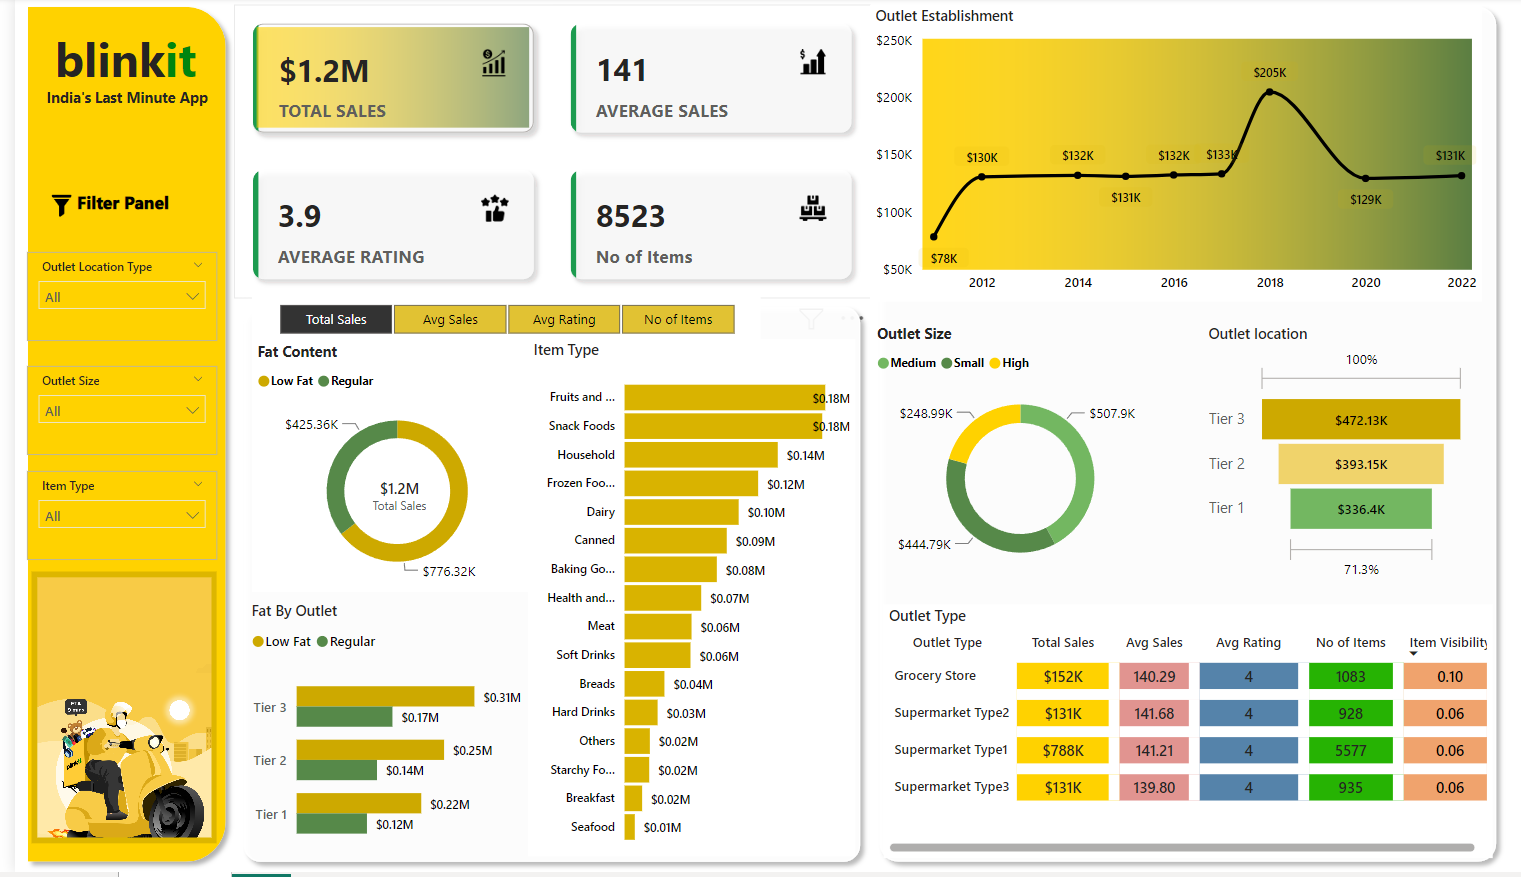

This screenshot's page, from the dashboard's own definition file:
{"tool":"powerbi","page":{"name":"Page 1","canvas":[1400,800],"ordinal":0},"visuals":[{"type":"shape","box":[0,0,199.6,800],"z":0},{"type":"textbox","box":[3,76.5,199.6,64.5],"z":1000},{"type":"textbox","box":[1.5,22.5,199.6,85.6],"z":2000},{"type":"cardVisual","fields":{"Data":["BlinkIT Grocery Data.Total Sales","BlinkIT Grocery Data.Avg Sales","BlinkIT Grocery Data.Avg Rating","BlinkIT Grocery Data.No of Items"]},"box":[200.4,5,583,270],"z":3000},{"type":"shape","box":[202.1,274.9,581.3,525],"z":4000},{"type":"donutChart","title":"Fat Content","fields":{"Y":["BlinkIT Grocery Data.Total Sales"],"Category":["BlinkIT Grocery Data.Item Fat Content"]},"box":[217,314.7,265,230.2],"z":5000},{"type":"slicer","fields":{"Values":["matrix 2.matrix"]},"box":[217,274.9,465,40],"z":6000},{"type":"cardVisual","fields":{"Data":["BlinkIT Grocery Data.Total Sales"]},"box":[304.7,419,94.4,66.2],"z":7000},{"type":"clusteredBarChart","title":"Fat By Outlet","fields":{"Y":["BlinkIT Grocery Data.Total Sales"],"Category":["BlinkIT Grocery Data.Outlet Location Type"],"Series":["BlinkIT Grocery Data.Item Fat Content"]},"box":[211.8,551.8,257.3,240],"z":8000},{"type":"shape","box":[200.4,515.1,281.5,59.6],"z":9000},{"type":"shape","box":[210.4,525.1,281.5,59.6],"z":10000},{"type":"shape","box":[202.1,536.6,279.9,18.2],"z":11000},{"type":"shape","box":[212.1,546.6,279.9,18.2],"z":12000},{"type":"shape","box":[485.3,314.7,6.6,472],"z":13000},{"type":"barChart","title":"Item Type","fields":{"Y":["BlinkIT Grocery Data.Total Sales"],"Category":["BlinkIT Grocery Data.Item Type"]},"box":[481.8,310,308.2,471.8],"z":14000},{"type":"shape","box":[783.4,5,597.9,795],"z":15000},{"type":"lineChart","title":"Outlet Establishment","fields":{"Y":["BlinkIT Grocery Data.Total Sales"],"Category":["BlinkIT Grocery Data.Outlet Establishment Year"]},"box":[783.4,23.2,559.8,271.6],"z":16000},{"type":"donutChart","title":"Outlet Size","fields":{"Y":["BlinkIT Grocery Data.Total Sales"],"Category":["BlinkIT Grocery Data.Outlet Size"]},"box":[811.5,304.7,271.6,240.1],"z":17000},{"type":"funnel","title":"Outlet location","fields":{"Y":["BlinkIT Grocery Data.Total Sales"],"Category":["BlinkIT Grocery Data.Outlet Location Type"]},"box":[1098,304.7,245.1,240.1],"z":18000},{"type":"pivotTable","title":"Outlet Type","fields":{"Values":["BlinkIT Grocery Data.Total Sales","BlinkIT Grocery Data.Avg Sales","BlinkIT Grocery Data.Avg Rating","BlinkIT Grocery Data.No of Items","Avg(BlinkIT Grocery Data.Item Visibility)"],"Rows":["BlinkIT Grocery Data.Outlet Type"]},"box":[804.9,559.8,561.4,240.1],"z":19000},{"type":"slicer","fields":{"Values":["BlinkIT Grocery Data.Outlet Location Type"]},"box":[11.6,233.5,173.9,81.2],"z":20000},{"type":"slicer","fields":{"Values":["BlinkIT Grocery Data.Outlet Size"]},"box":[11.6,337.9,173.9,81.2],"z":21000},{"type":"slicer","fields":{"Values":["BlinkIT Grocery Data.Item Type"]},"box":[11.6,433.9,173.9,81.2],"z":22000},{"type":"textbox","box":[12.9,171.4,172.9,38.6],"z":23000}]}

Visuals, with their boxes in screenshot pixels (x1, y1, x2, y2), scaled from the page's 1400x800 canvas onto the 1521x877 screenshot:
shape: (x1=0, y1=0, x2=217, y2=876)
textbox: (x1=3, y1=84, x2=220, y2=155)
textbox: (x1=2, y1=25, x2=218, y2=119)
cardVisual - BlinkIT Grocery Data.Total Sales x BlinkIT Grocery Data.Avg Sales: (x1=218, y1=5, x2=851, y2=301)
shape: (x1=220, y1=301, x2=851, y2=876)
"Fat Content" donutChart: (x1=236, y1=345, x2=524, y2=597)
slicer - matrix 2.matrix: (x1=236, y1=301, x2=741, y2=345)
cardVisual - BlinkIT Grocery Data.Total Sales: (x1=331, y1=459, x2=434, y2=532)
"Fat By Outlet" clusteredBarChart: (x1=230, y1=605, x2=510, y2=868)
shape: (x1=218, y1=565, x2=524, y2=630)
shape: (x1=229, y1=576, x2=534, y2=641)
shape: (x1=220, y1=588, x2=524, y2=608)
shape: (x1=230, y1=599, x2=535, y2=619)
shape: (x1=527, y1=345, x2=534, y2=862)
"Item Type" barChart: (x1=523, y1=340, x2=858, y2=857)
shape: (x1=851, y1=5, x2=1501, y2=876)
"Outlet Establishment" lineChart: (x1=851, y1=25, x2=1459, y2=323)
"Outlet Size" donutChart: (x1=882, y1=334, x2=1177, y2=597)
"Outlet location" funnel: (x1=1193, y1=334, x2=1459, y2=597)
"Outlet Type" pivotTable: (x1=874, y1=614, x2=1484, y2=876)
slicer - BlinkIT Grocery Data.Outlet Location Type: (x1=13, y1=256, x2=202, y2=345)
slicer - BlinkIT Grocery Data.Outlet Size: (x1=13, y1=370, x2=202, y2=459)
slicer - BlinkIT Grocery Data.Item Type: (x1=13, y1=476, x2=202, y2=565)
textbox: (x1=14, y1=188, x2=202, y2=230)
